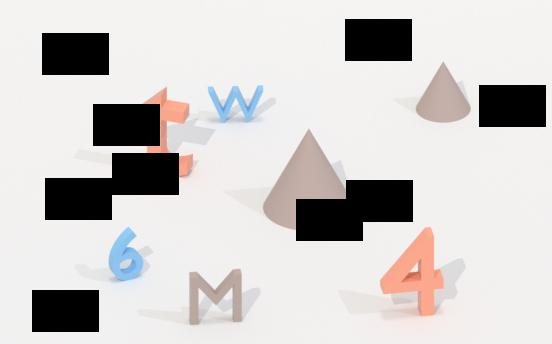4: (377, 226, 446, 318)
6: (106, 224, 143, 284)
M-hoa: (189, 267, 243, 326)
non: (259, 126, 359, 233), (414, 59, 472, 127)
t: (129, 86, 196, 181)
w: (205, 81, 266, 128)
